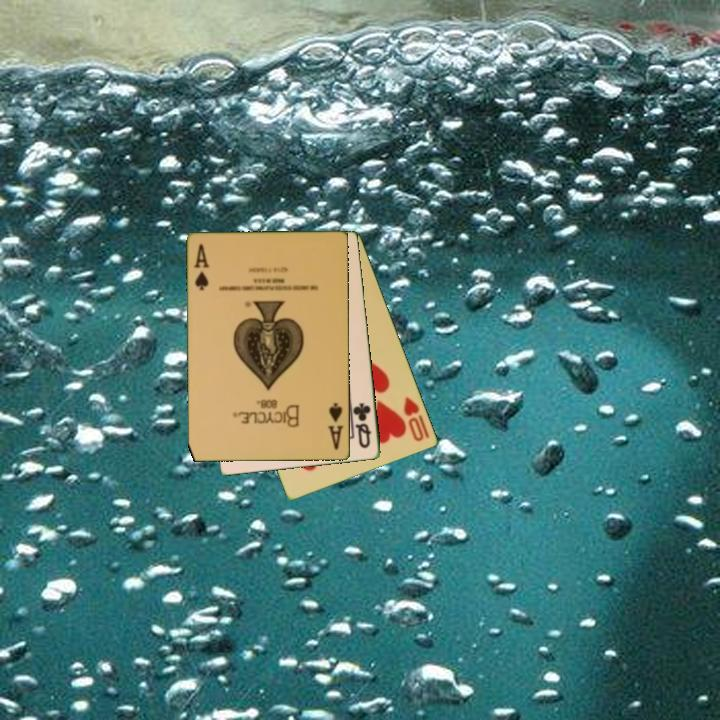10h: (400, 393, 433, 444)
As: (325, 400, 346, 453), (191, 241, 212, 293)
Qc: (350, 399, 374, 451)
